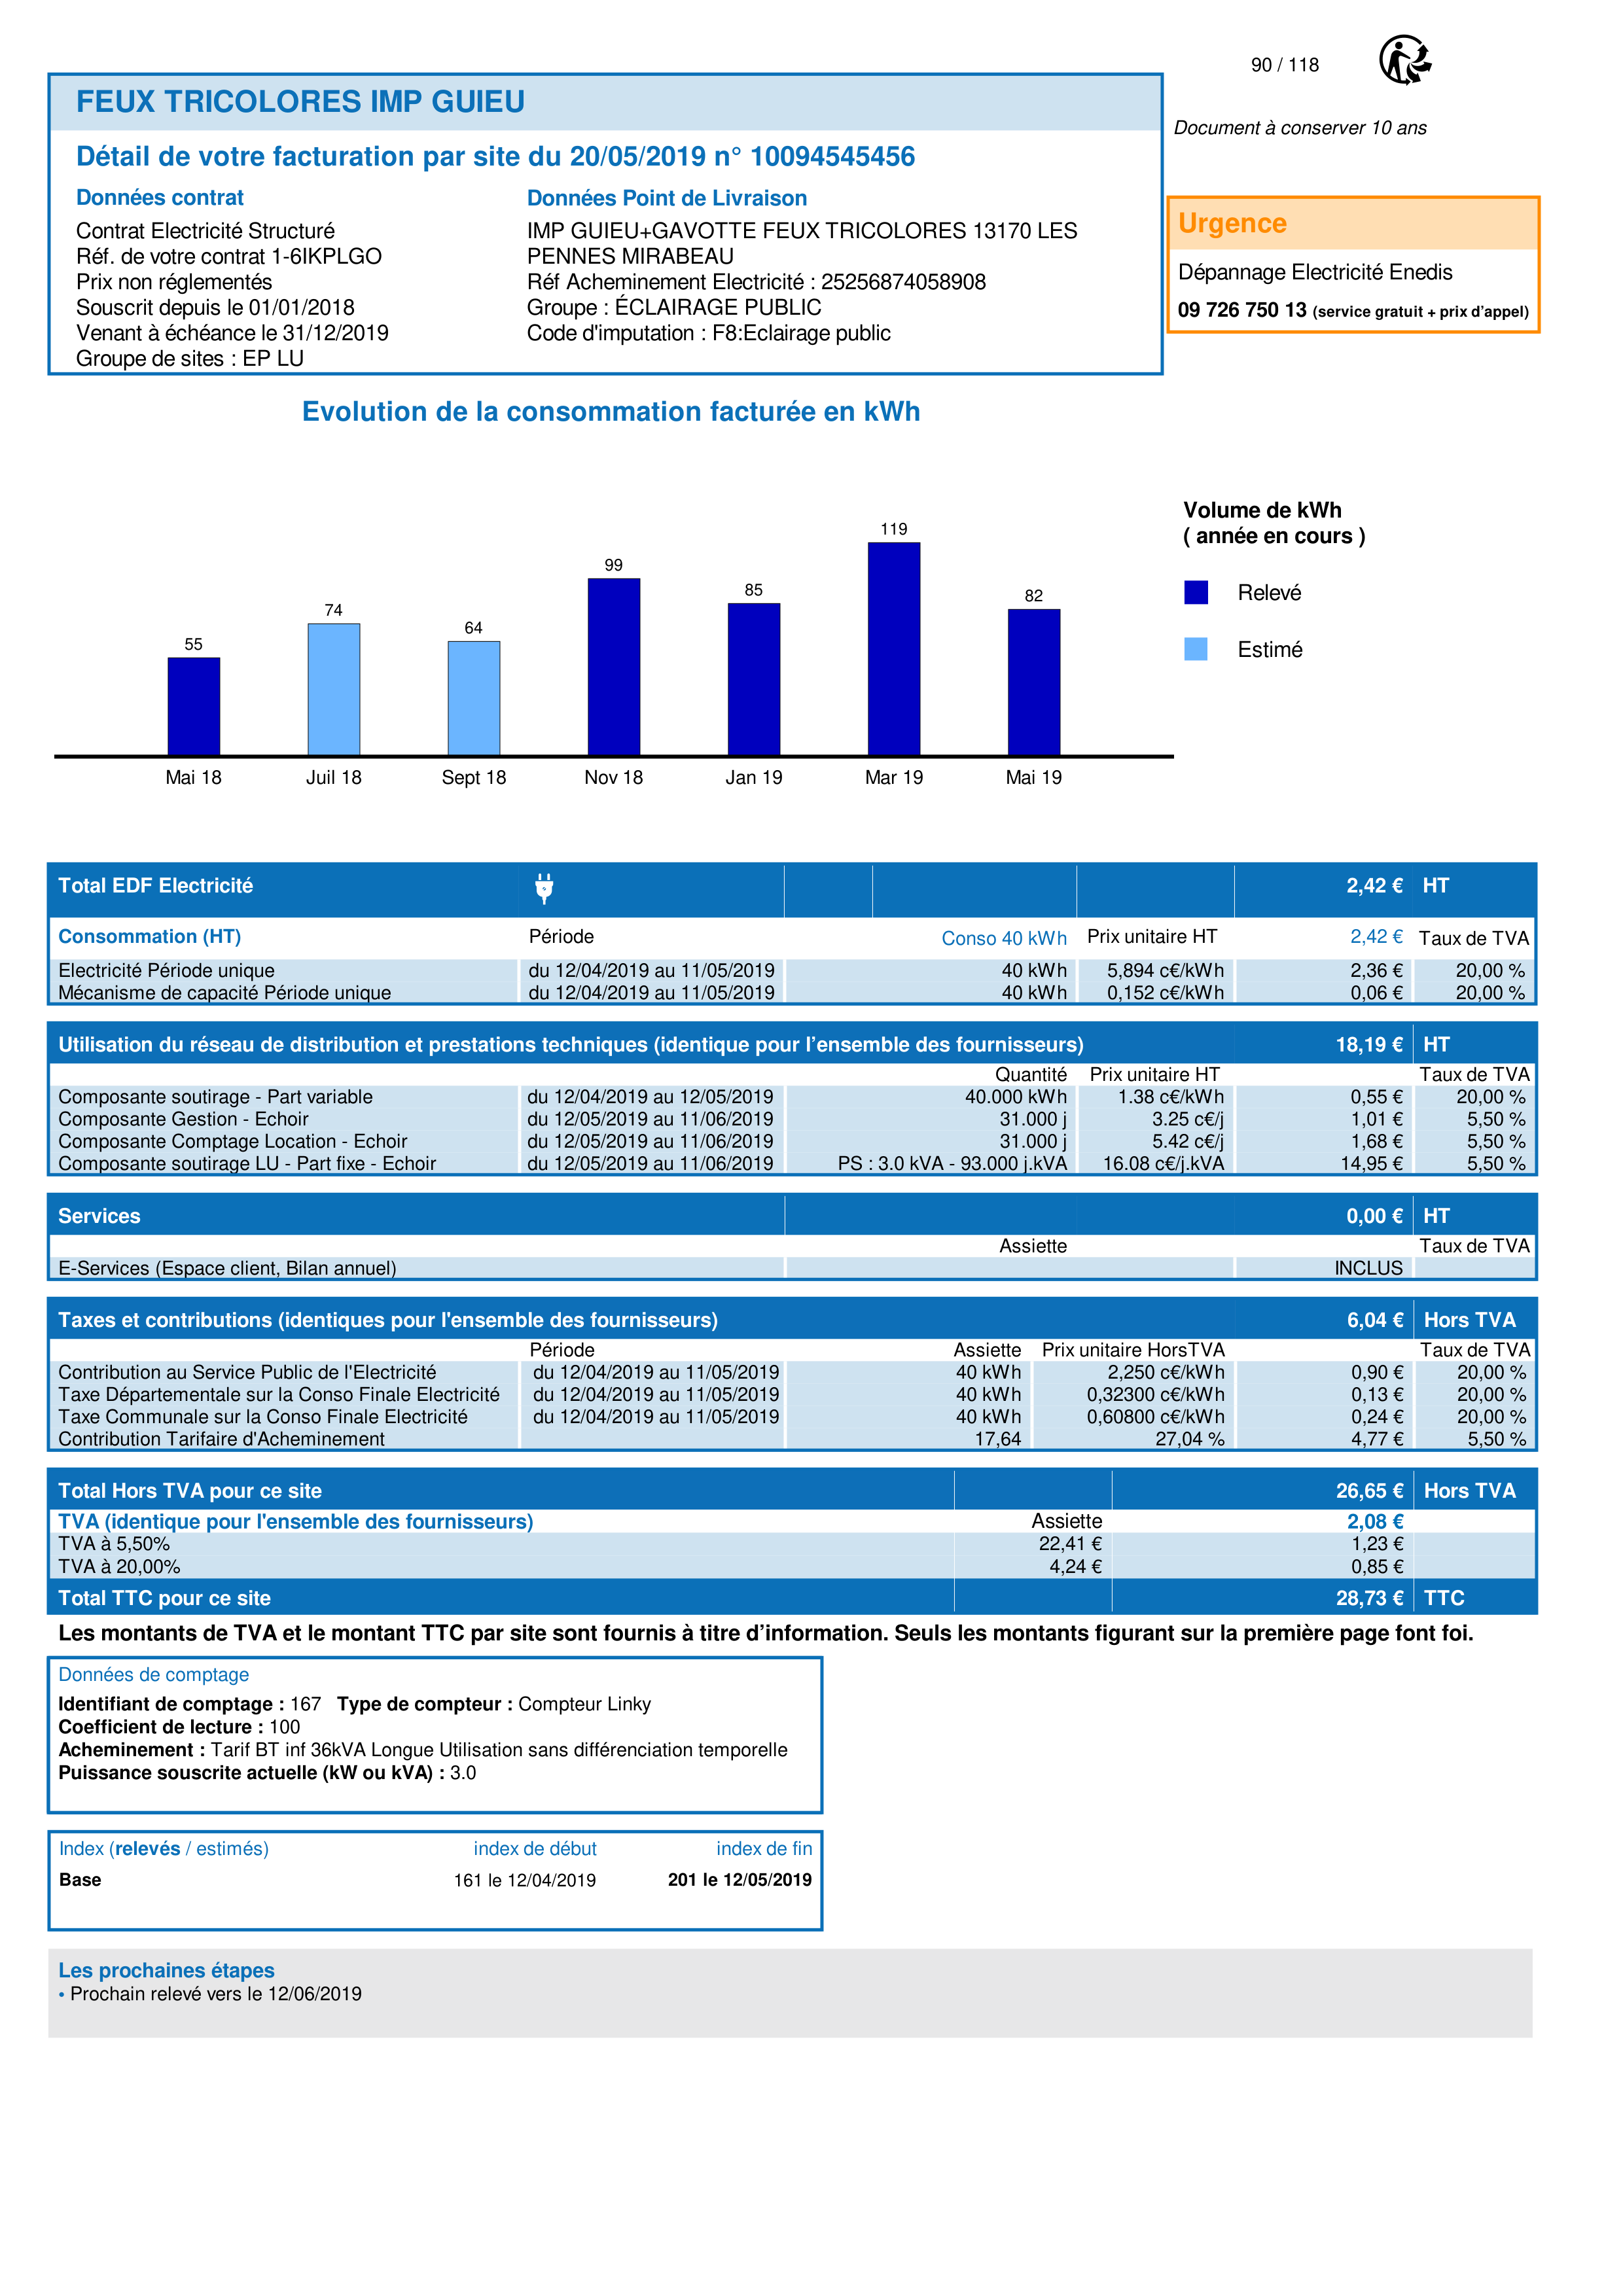area: (48, 1831, 821, 1930)
type_indicator: (48, 1832, 278, 1862)
